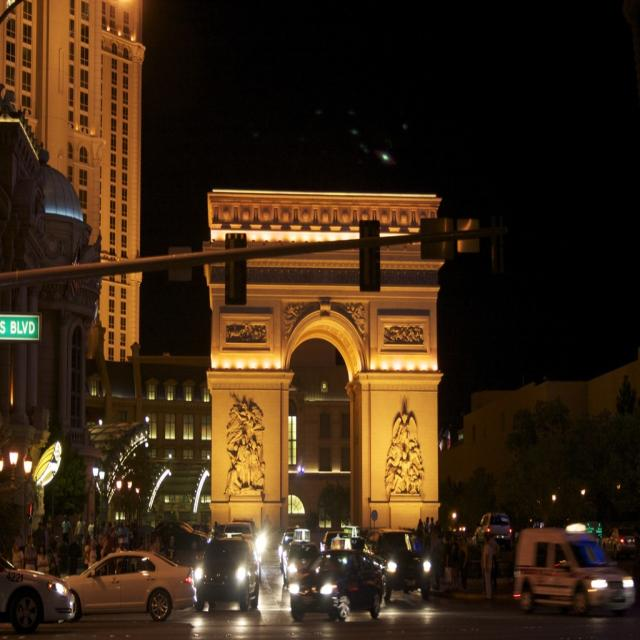car: (33, 554, 189, 629), (288, 546, 388, 621)
